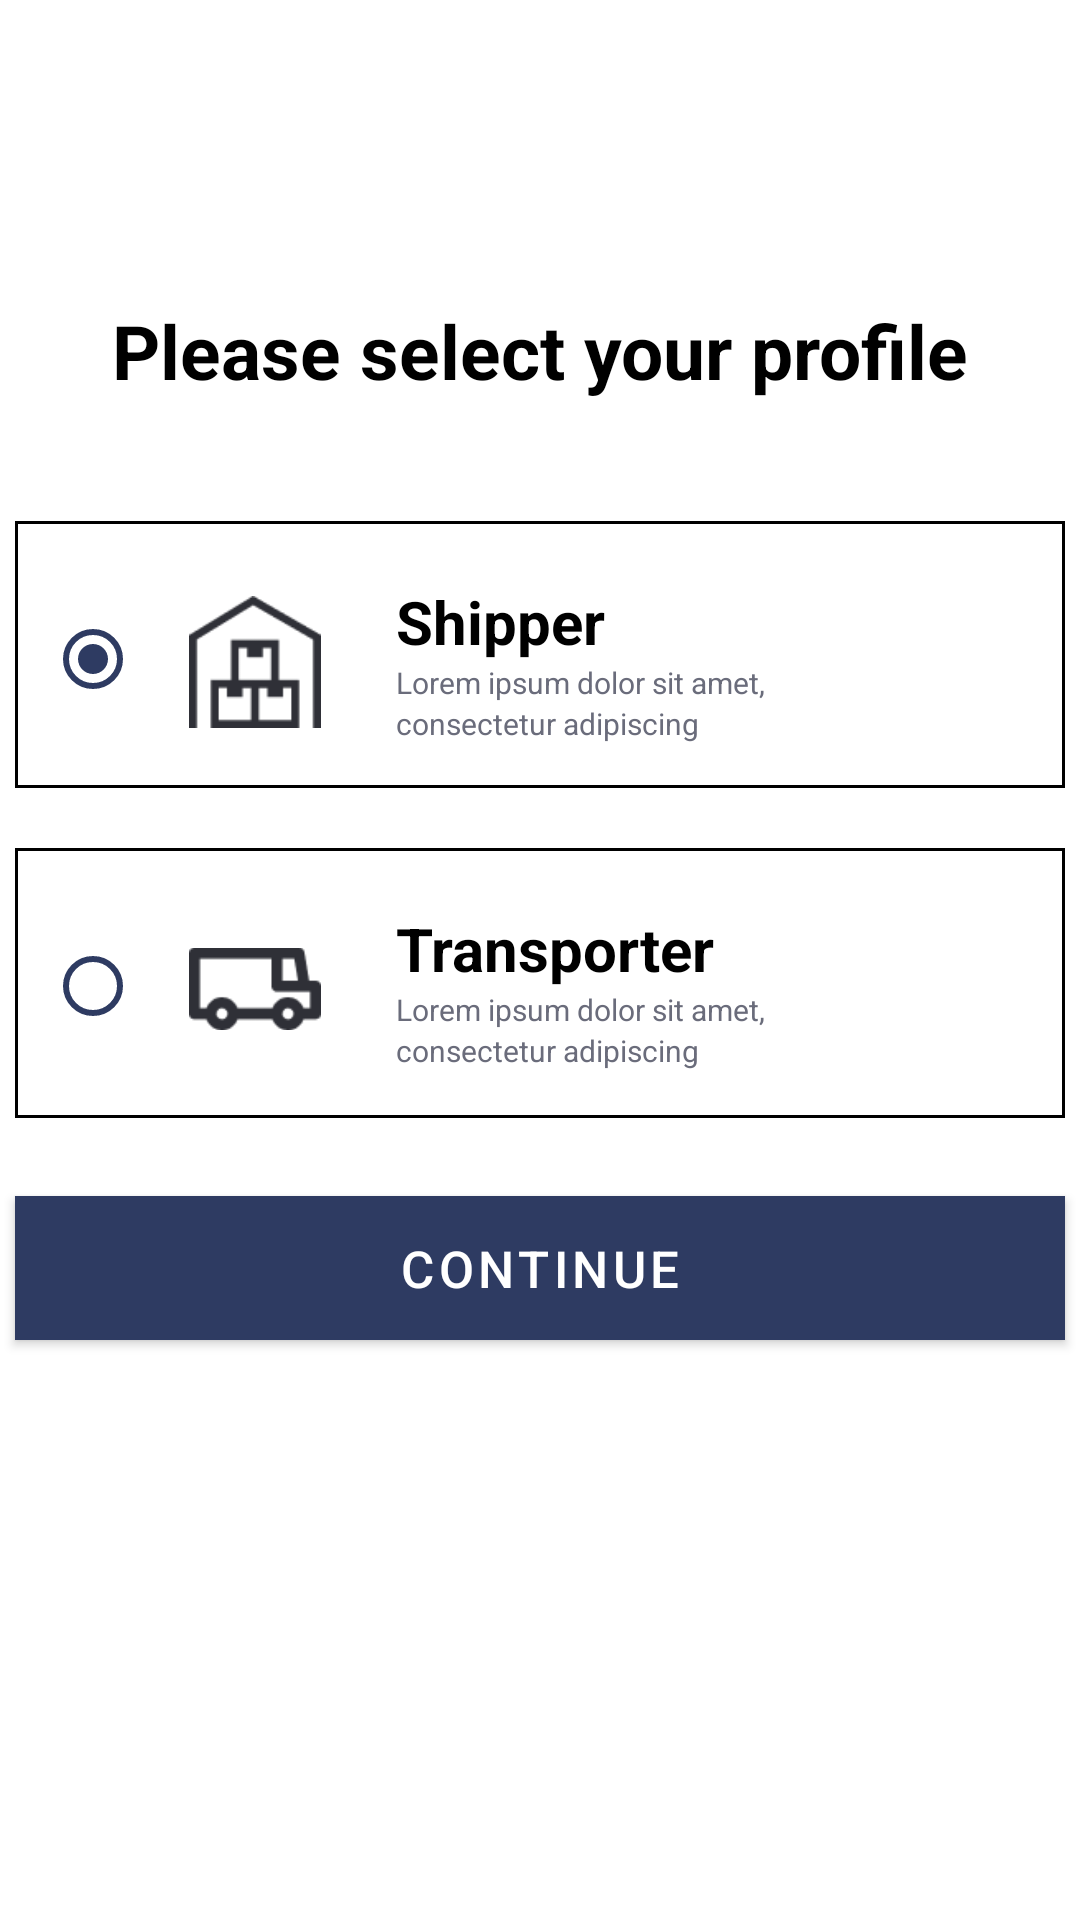

Icons on this 1080x1920 Android screen, each with its box as (x1, y1, x2, y2):
home: (189, 596, 321, 728)
truck: (189, 948, 321, 1030)
